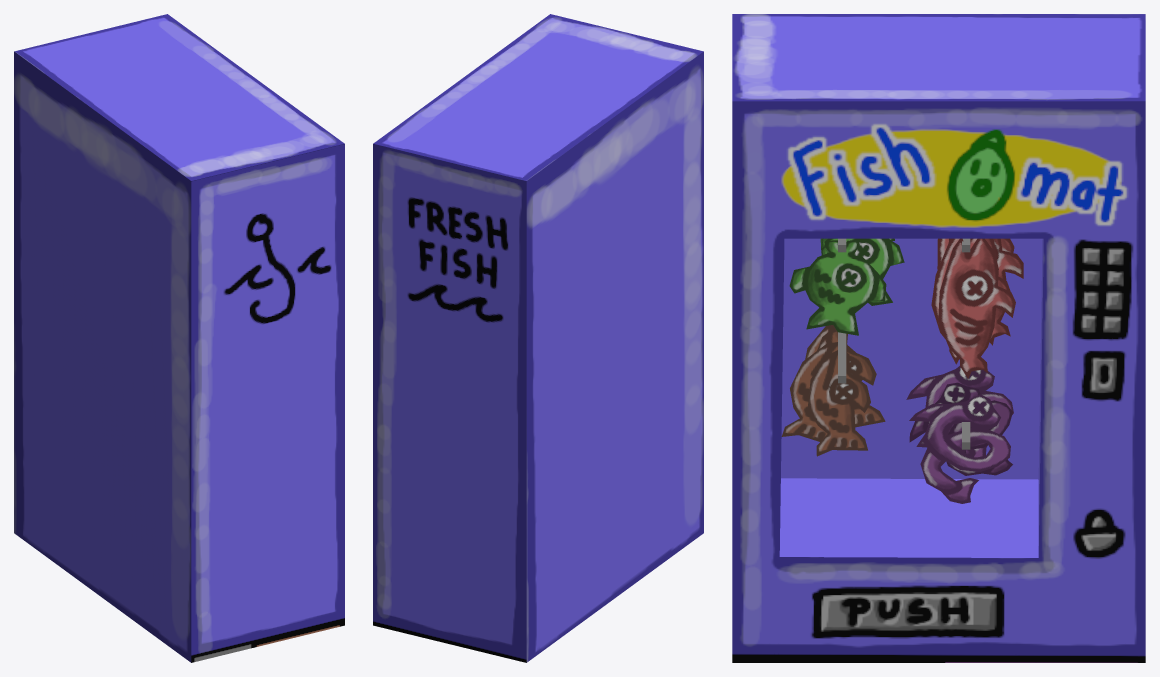
Rendered from fishomat.glb.
The picture shows the model from 3 angles, left to right: view 1: azimuth 30°, elevation 25°; view 2: azimuth 150°, elevation 25°; view 3: azimuth 270°, elevation 25°; orthographic projection. The views are drawn at different scales.
Visible parts, largest first — view 1: Fishomat; view 2: Fishomat; view 3: Fishomat.
Part boxes in pixels (x1,y1,x2,y2): Fishomat: [14, 14, 344, 662]; Fishomat: [373, 14, 703, 662]; Fishomat: [732, 14, 1145, 662].
Bounding box in the file's own units: 0.5 × 1.5 × 1.
Materials: 1 (1 with a texture image).
